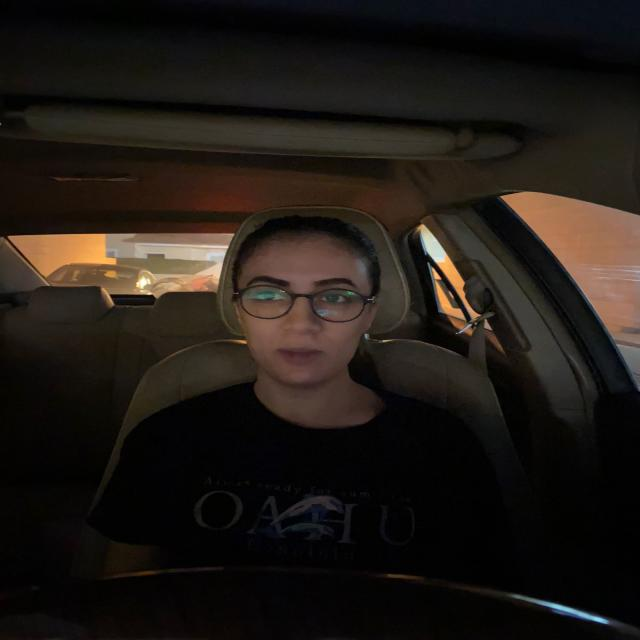person: (224, 213, 385, 396)
